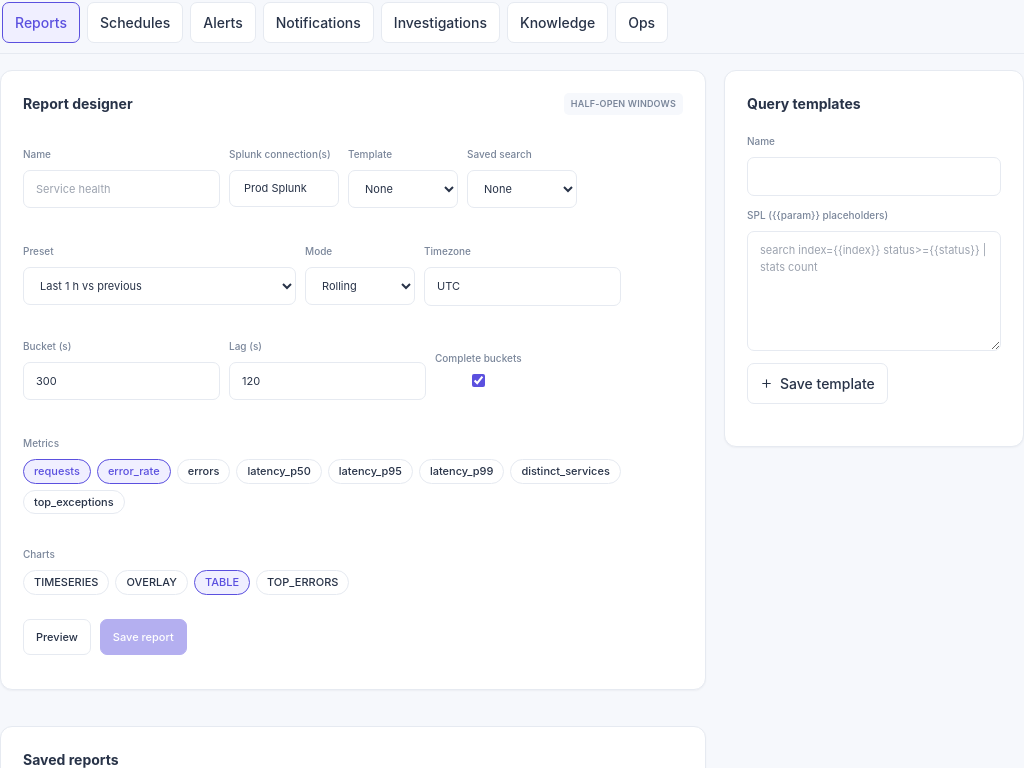
Scenario: Monitoring › requires payload preview before enabling a destination
What coordinates should you click on to do the following:
click the tab "Notifications"
I would click on:
 (318, 22)
Its box is [263,2,374,43].
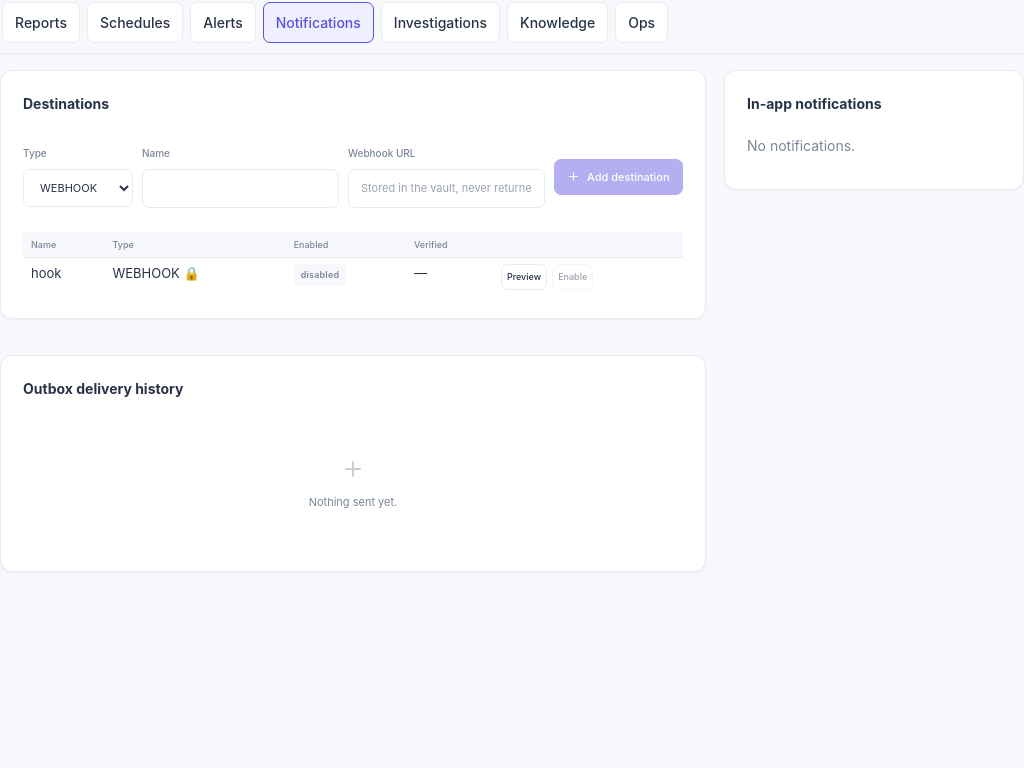
Result: the button "Enable" is disabled at [552,264,593,290]
What coordinates should you click on to do the following:
click the button "Preview"
I would click on:
 (524, 277)
Its box is [501,264,547,290].
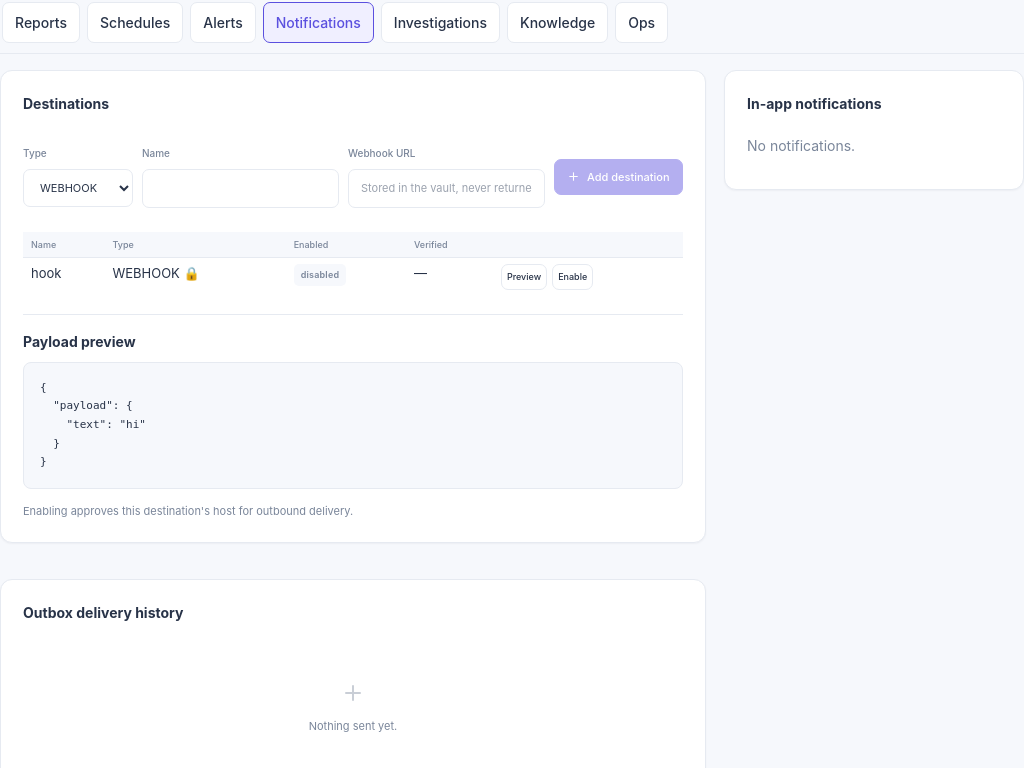
Result: the button "Enable" is enabled at [552,264,593,290]
